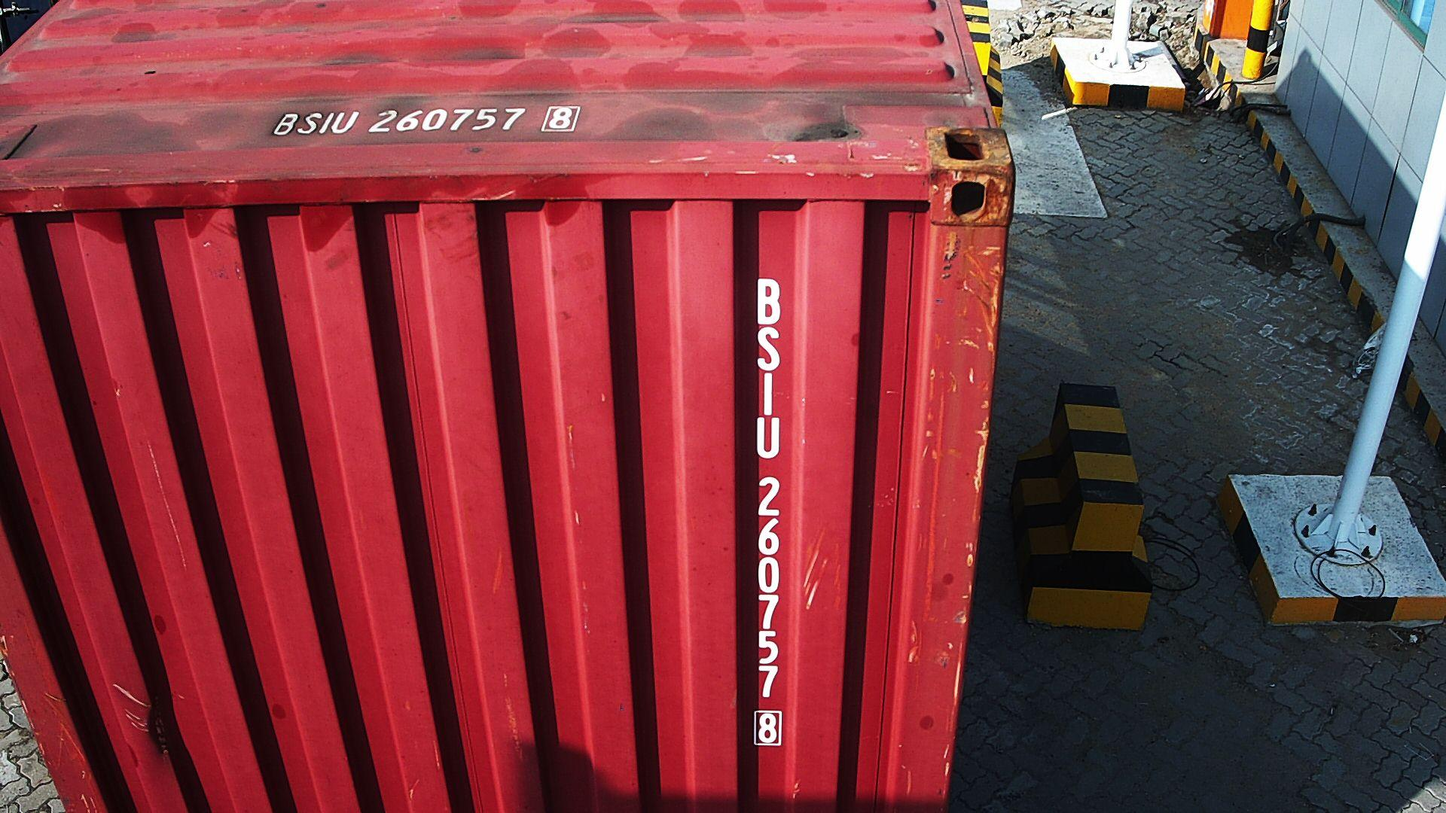container-numbers: (744, 274, 792, 751), (262, 102, 588, 138)
